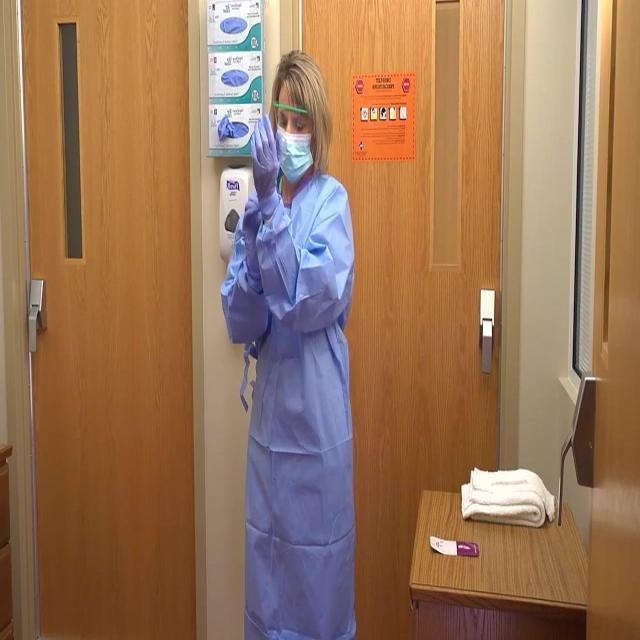gloves: (246, 108, 282, 212)
